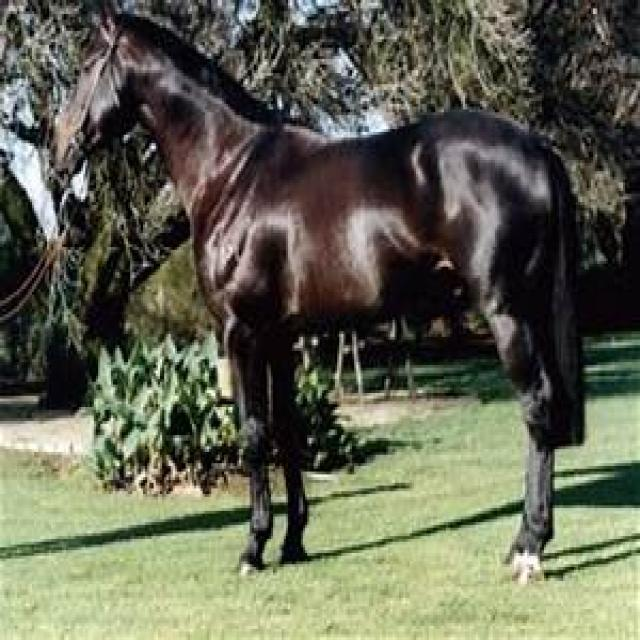horse: (79, 8, 589, 584)
